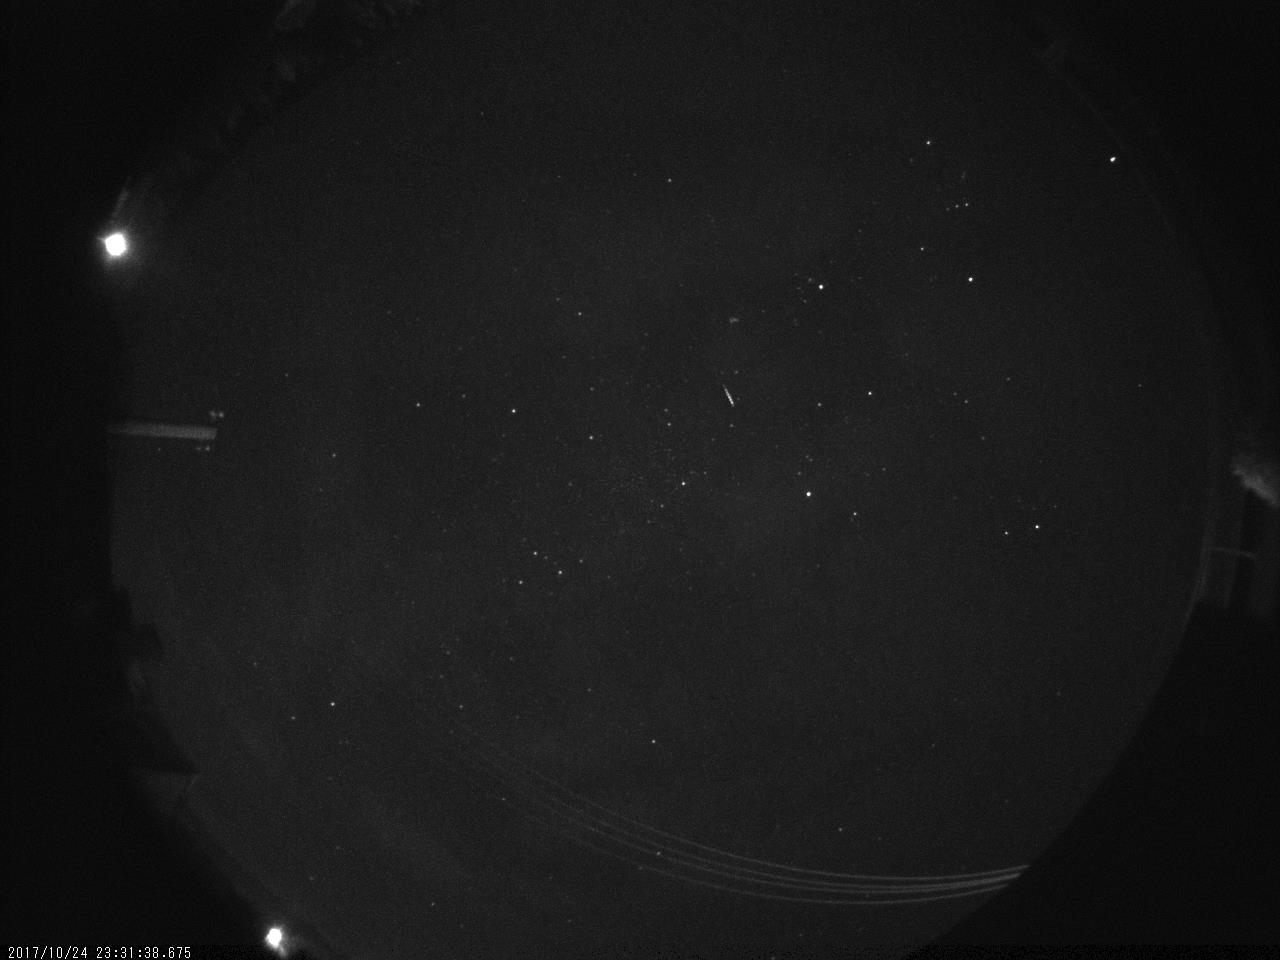meteor: (716, 377, 745, 413)
